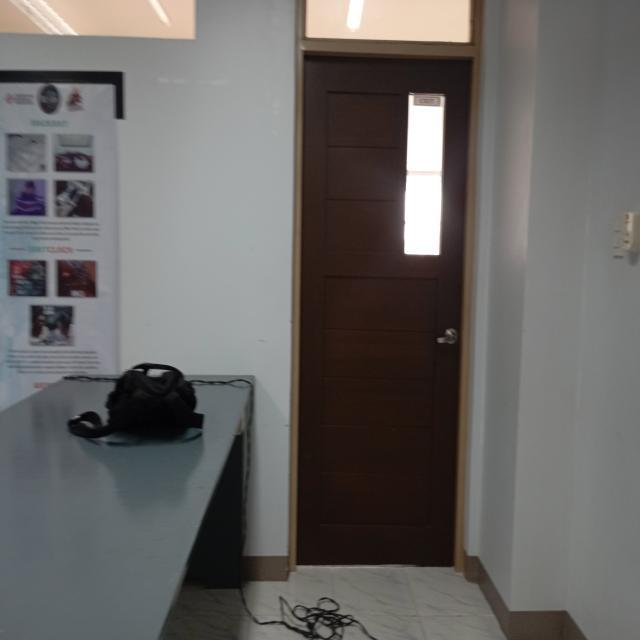door: (286, 0, 478, 588)
